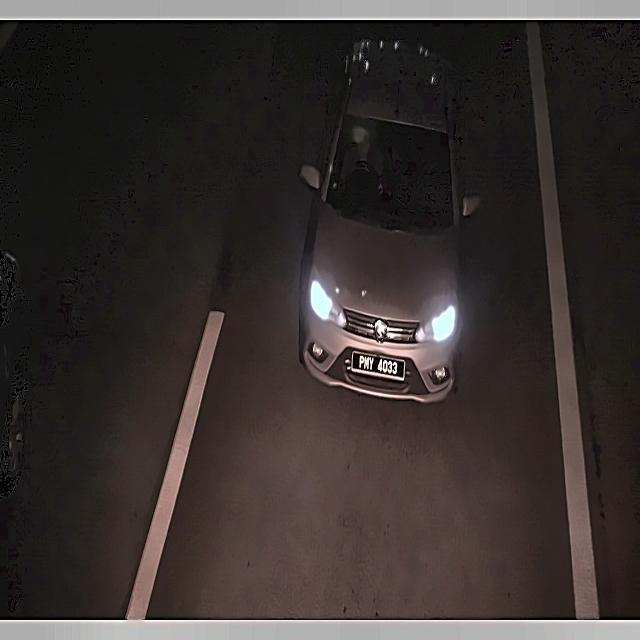car: (352, 348, 408, 387)
